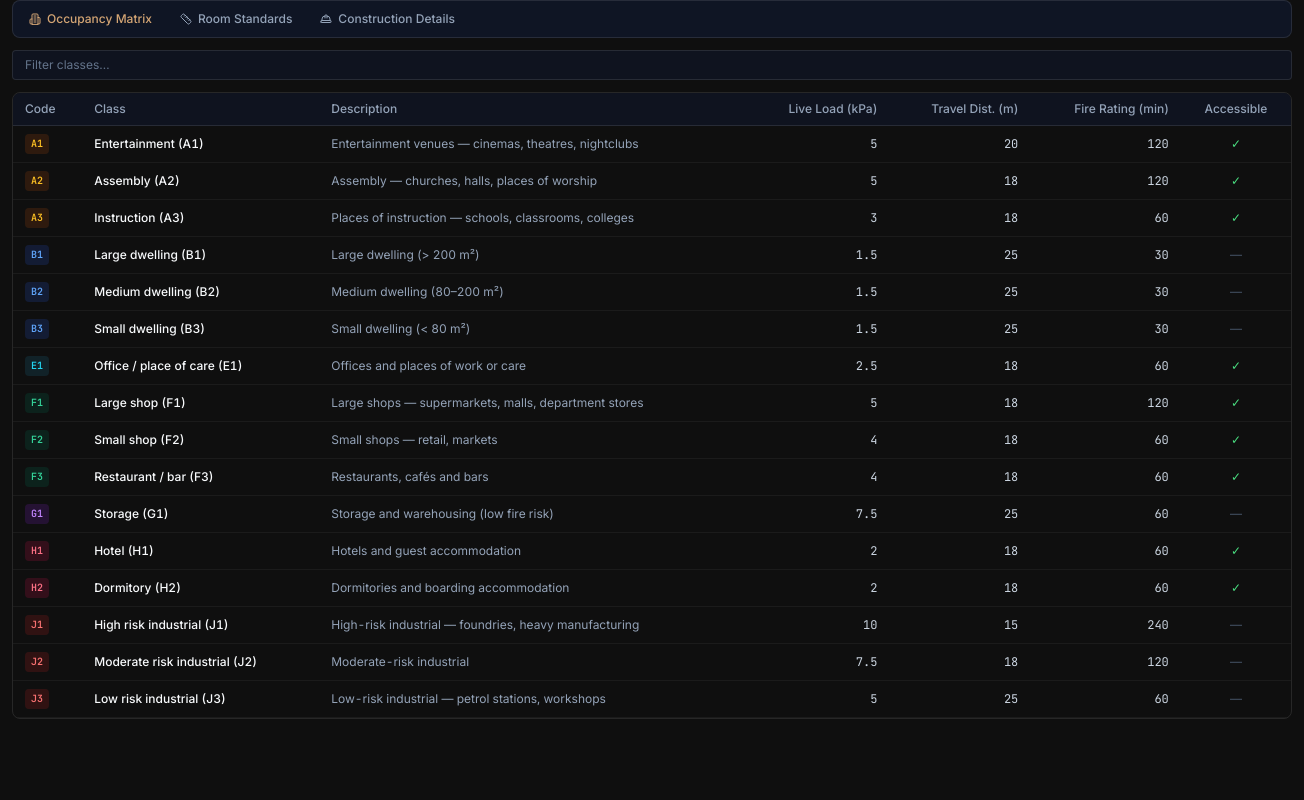
Test: ConstructionDetailsBrowser › room standards tab › switches to room-standards tab and shows 13 spec rooms
Step 1. Click the button "Room Standards" → (236, 19), box 168,5 -> 304,33
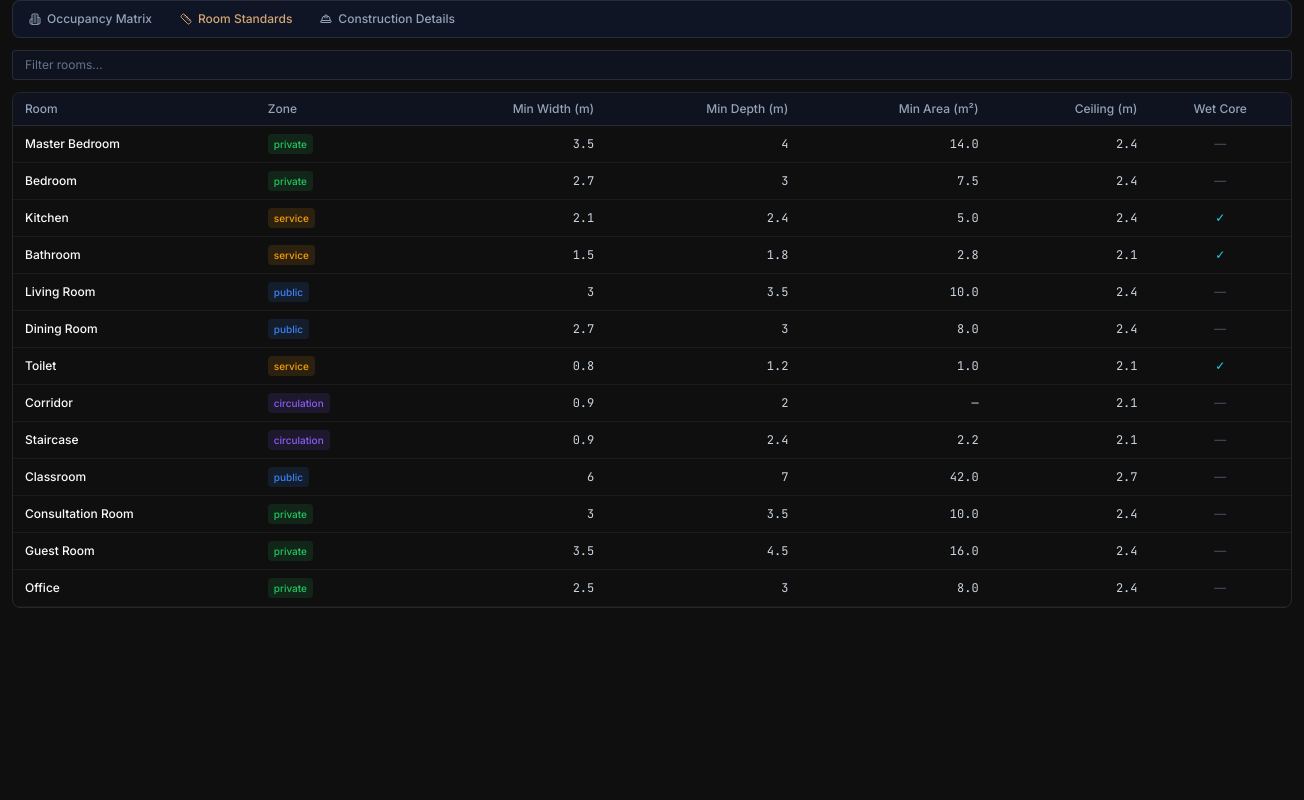
Result: the element that starts with "Room" is shown
